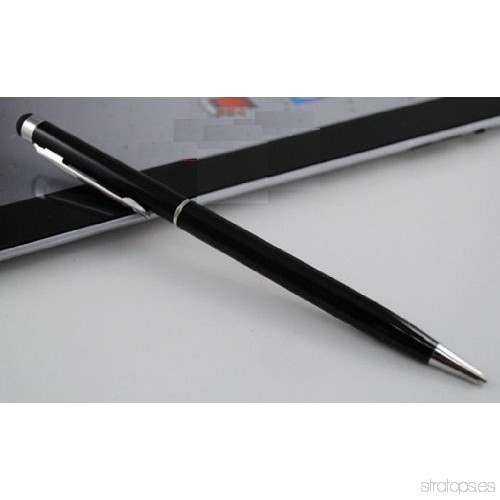Boligrafo: (16, 110, 489, 388)
